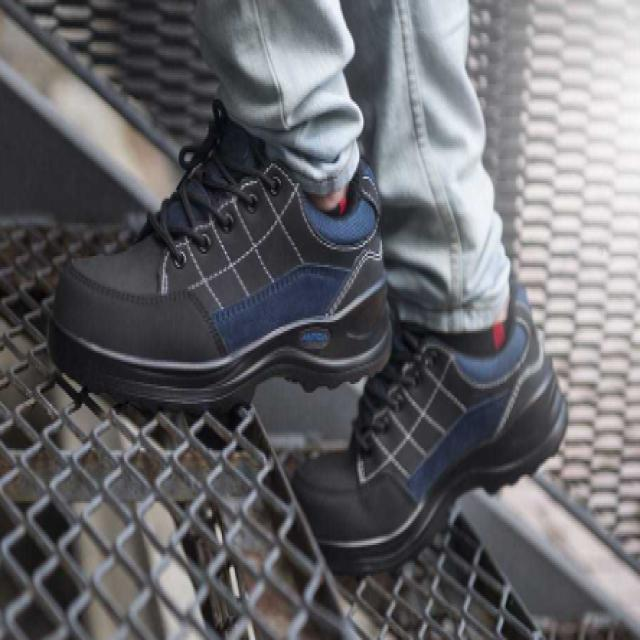boots: (40, 97, 574, 589)
